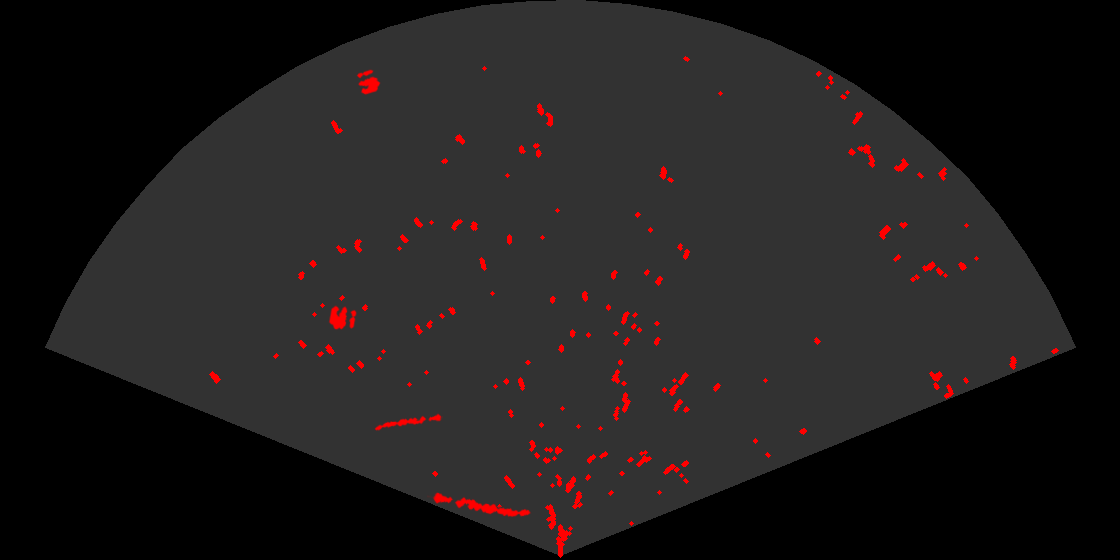ball: (327, 304, 358, 331), (355, 68, 382, 96)
chain: (427, 491, 532, 519), (373, 412, 443, 432)
